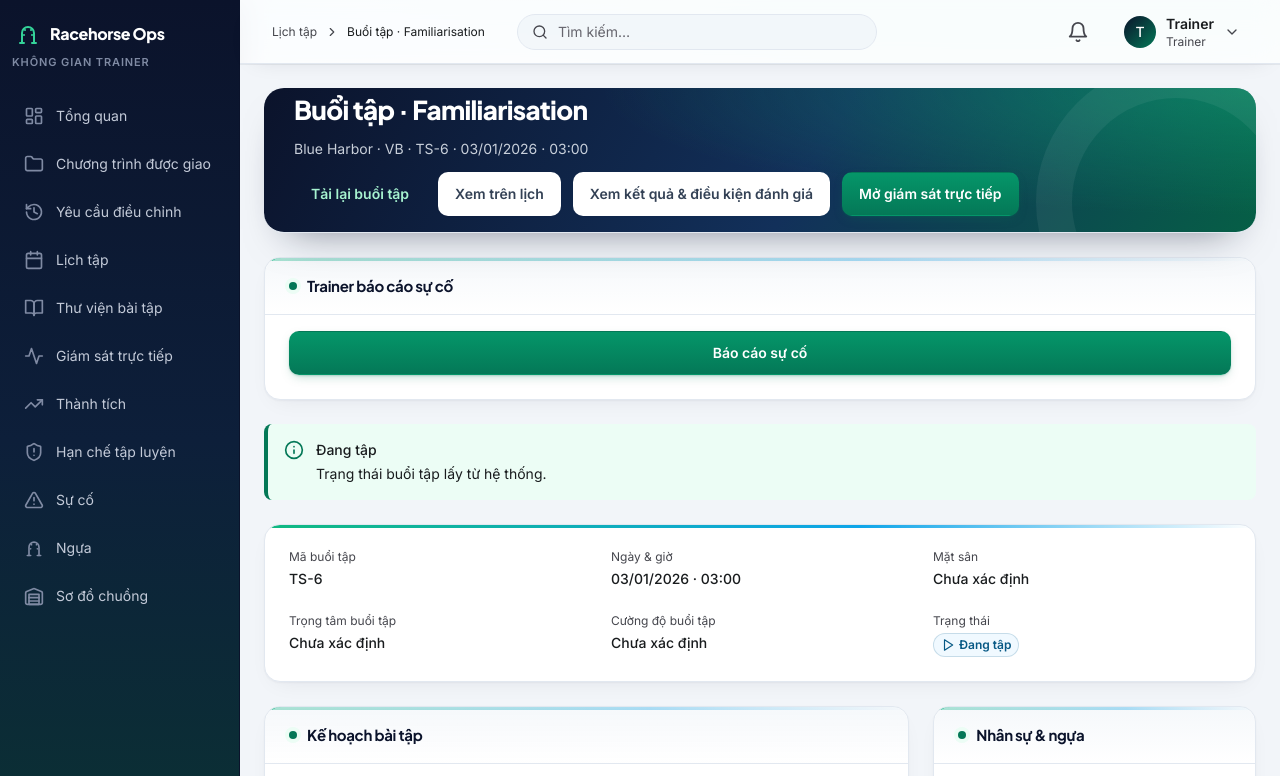
Test: posts the incident contract, displays response identifiers and updates the session to INTERRUPTED
Click the button "Báo cáo sự cố" at coordinates (760, 353), box [289,331,1231,375]
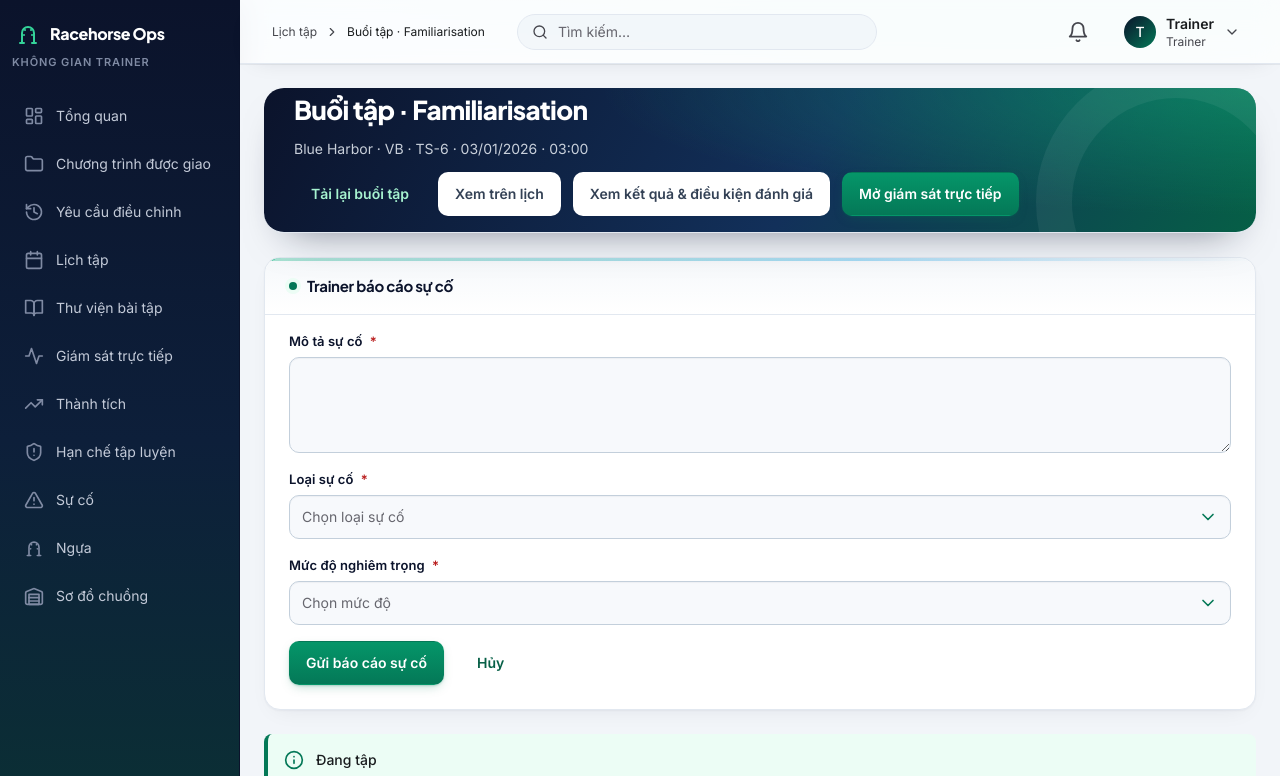
Type "Ngựa có dấu hiệu khập khiễng" into the text box labelled "Mô tả sự cố" at coordinates (760, 405), box [289,357,1231,453]
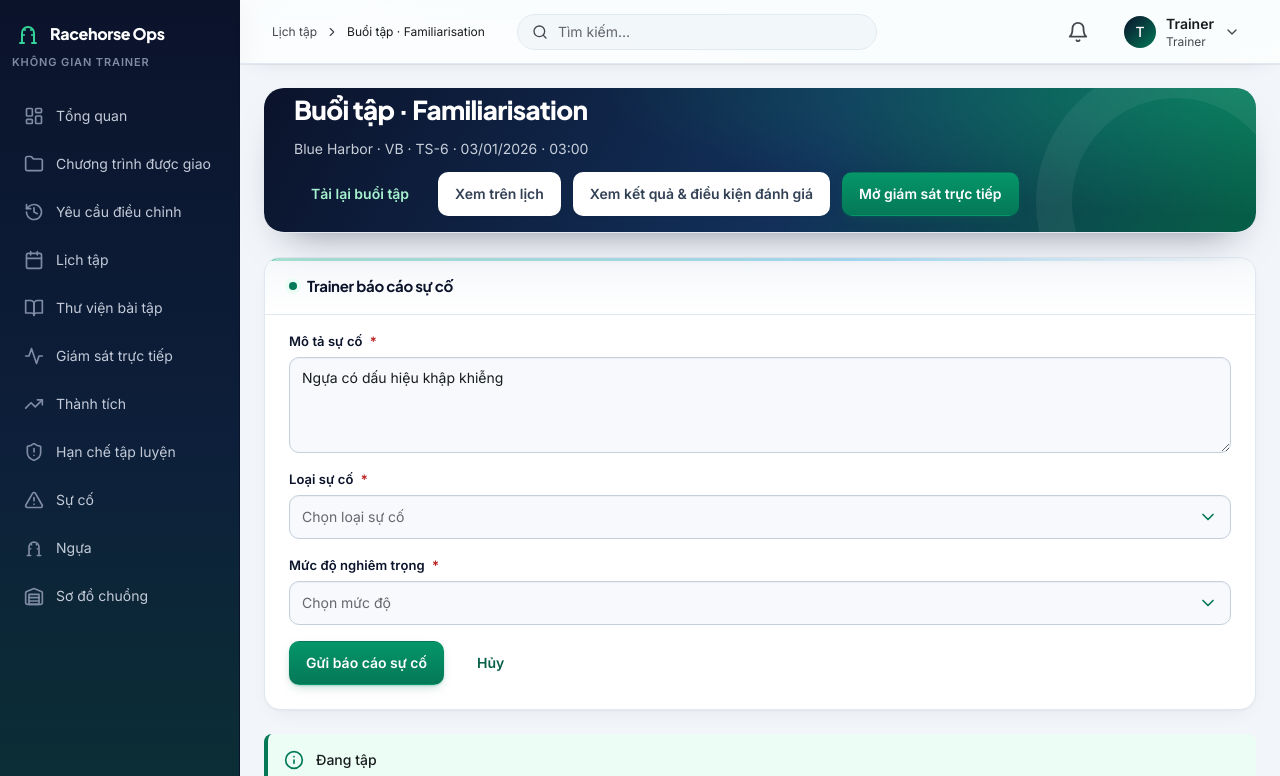
Select "Khập khiễng, bước không đều" in the dropdown labelled "Loại sự cố" at coordinates (760, 517), box [290,496,1230,538]
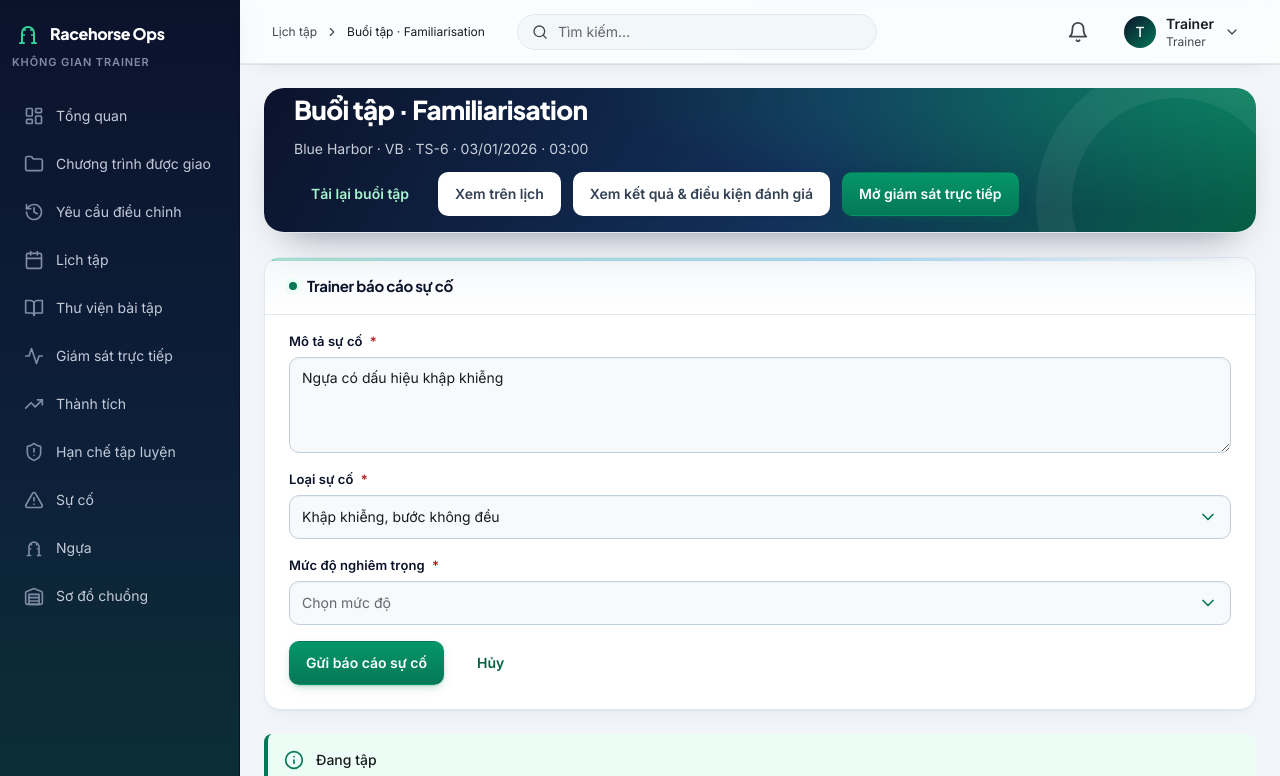
Select "Trung bình" in the dropdown labelled "Mức độ nghiêm trọng" at coordinates (760, 603), box [290,582,1230,624]
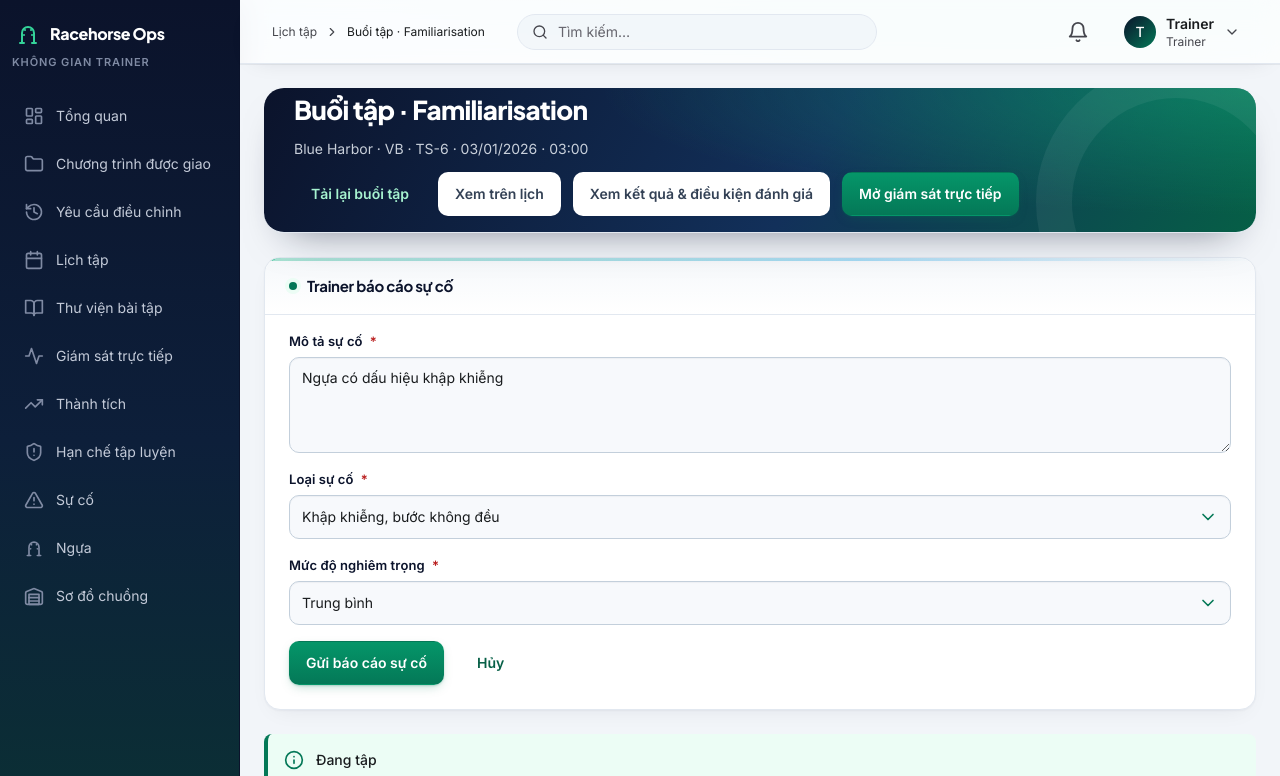
Click the button "Gửi báo cáo sự cố" at coordinates (366, 663), box [289,641,444,685]
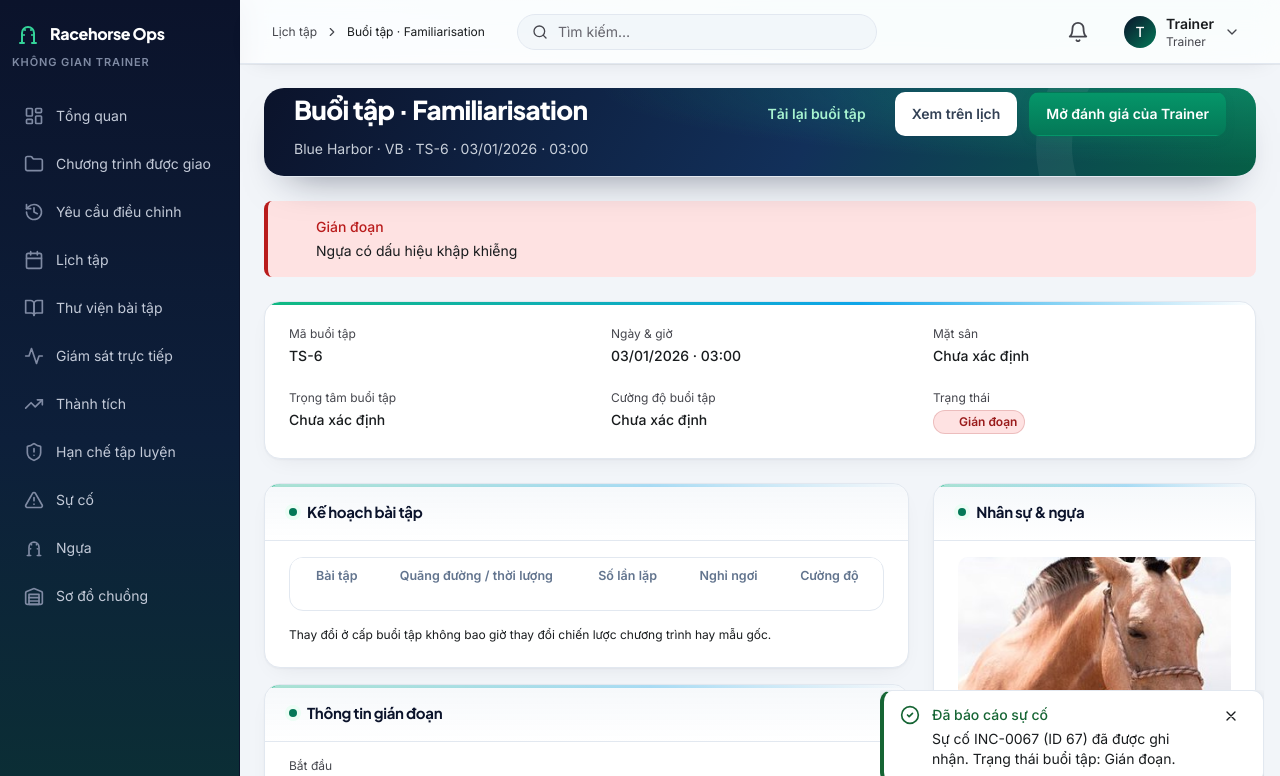
Check: the text "INC-0067" is shown, box [974,730,1039,747]
Check: the element showing "Gián đoạn" is shown, box [933,410,1025,434]
Check: the heading "Thông tin gián đoạn" is shown, box [289,701,442,725]
